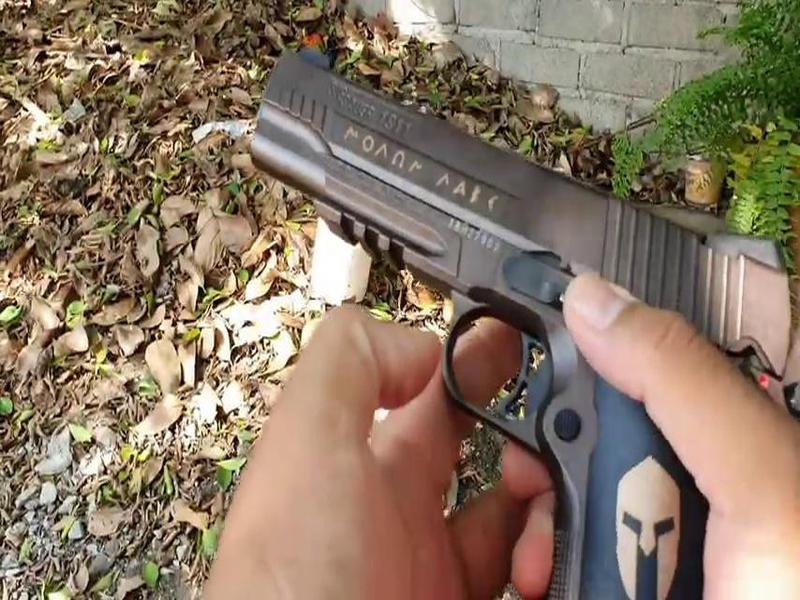Pistola: (234, 43, 800, 564)
